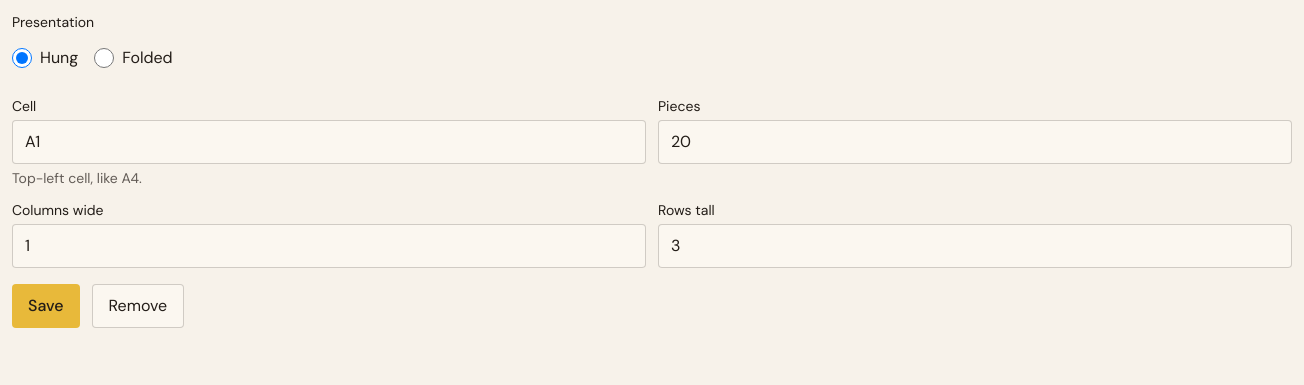
Test: PlacementEditor › shows the server's refusal in the panel, not only behind it
What coordinates should you click on to do the following:
click the button "Save"
I would click on:
 (46, 306)
Its box is 12,284 -> 80,328.
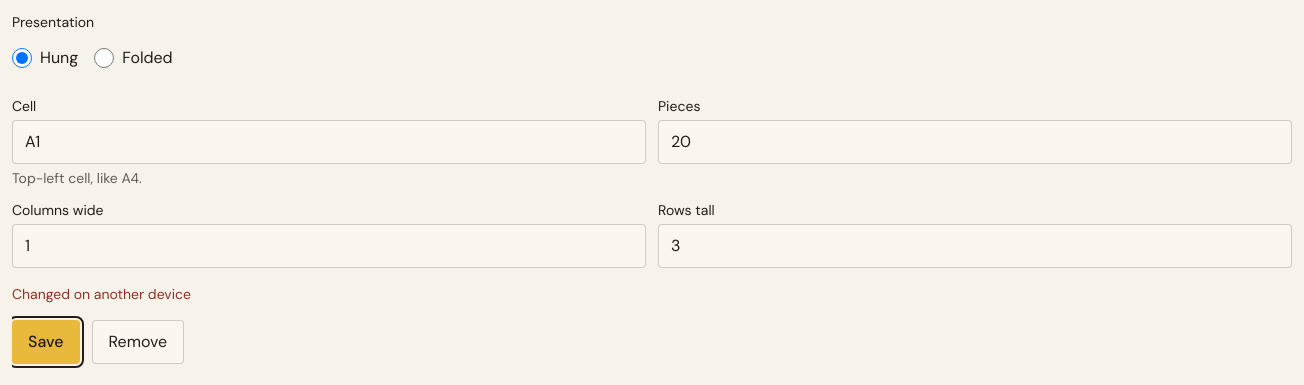
Expected: the message reads "Changed on another device", 12,285 -> 191,303
